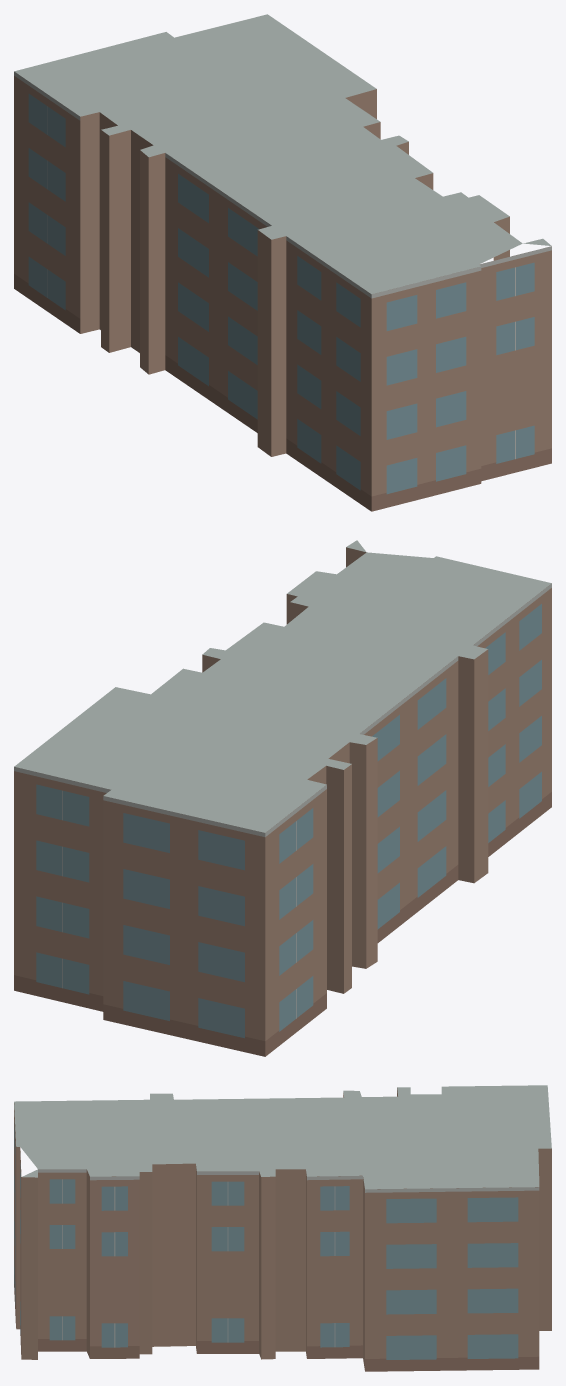
Rendered from survey-upis-32479650.glb.
3 renders of one model, top to bottom at view 1: azimuth 30°, elevation 25°; view 2: azimuth 150°, elevation 25°; view 3: azimuth 270°, elevation 25°, orthographic. The views are drawn at different scales.
Parts seen in each view (by area): view 1: survey-upis-32479650.tmp; view 2: survey-upis-32479650.tmp; view 3: survey-upis-32479650.tmp.
Part boxes in pixels (left/top/right/bottom): survey-upis-32479650.tmp: left=14, top=14, right=551, bottom=511; survey-upis-32479650.tmp: left=14, top=540, right=551, bottom=1056; survey-upis-32479650.tmp: left=14, top=1085, right=551, bottom=1371.
Bounding box in the file's own units: 15.37 × 12.55 × 33.54.
